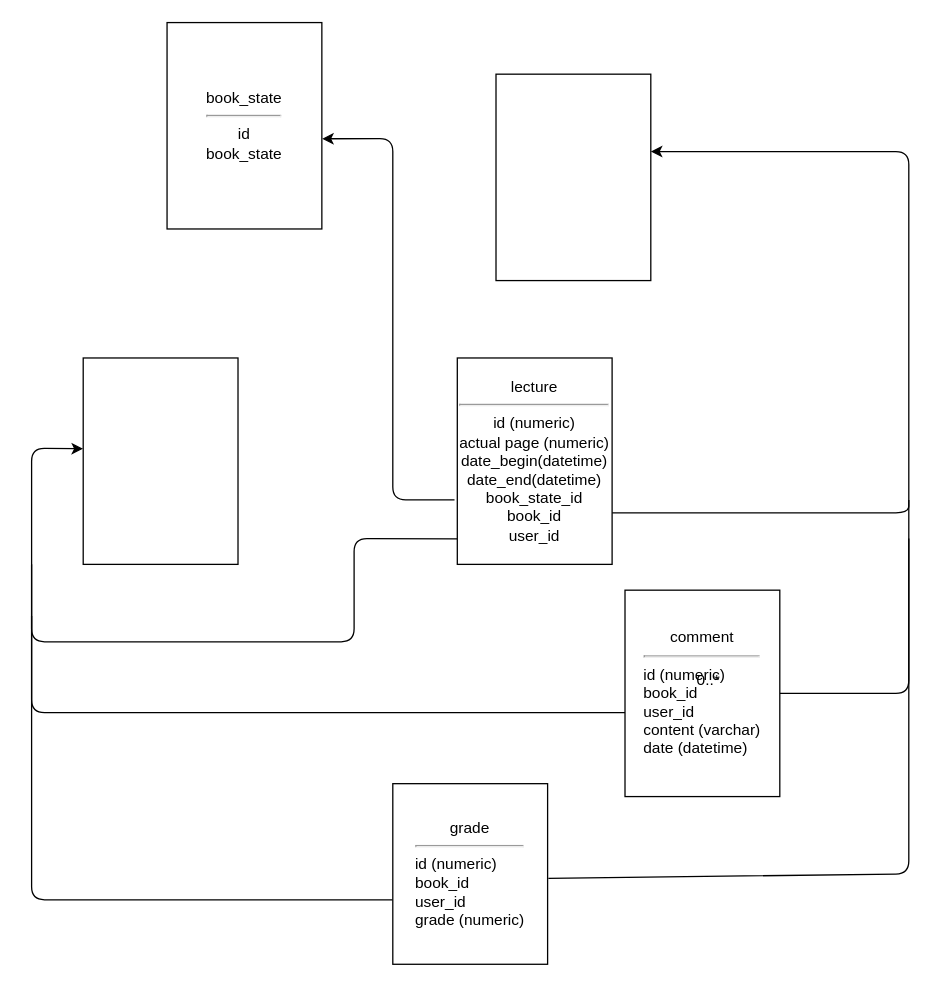
The diagram is 942 pixels wide and 987 high, and some of its shapes have lost their labels. Each missing label, with the centre of its shape:
"Book Id Title Author Editor Parution date ISBN" belongs at (x=573, y=177).
"user id (numeric) Pseudo (varchar) email (varchar) password (varchar)" belongs at (x=160, y=460).
